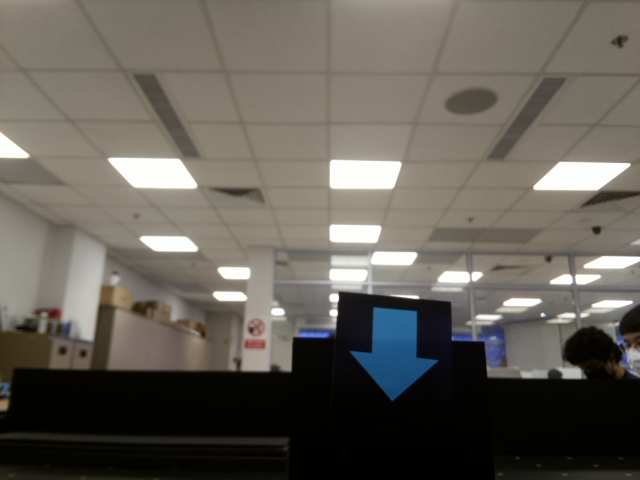down: (343, 299, 442, 410)
